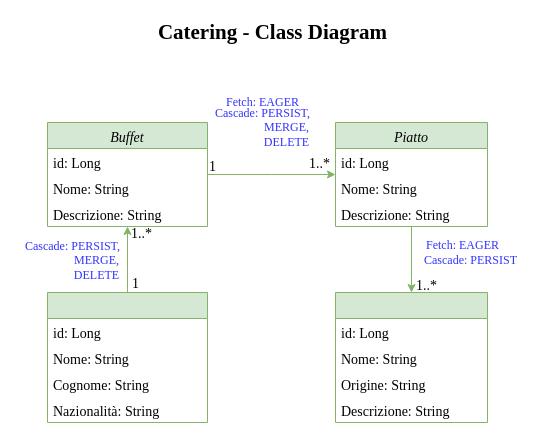
Some shapes in this 537 by 442 pixel diagram are drawn without their labels. The shapes that lost their labels are listed below. From the top down, each one's box as (x1, y1, x2, y2) in pixels, then its label:
(46, 292, 208, 422): Chef
(334, 292, 488, 422): Ingrediente
